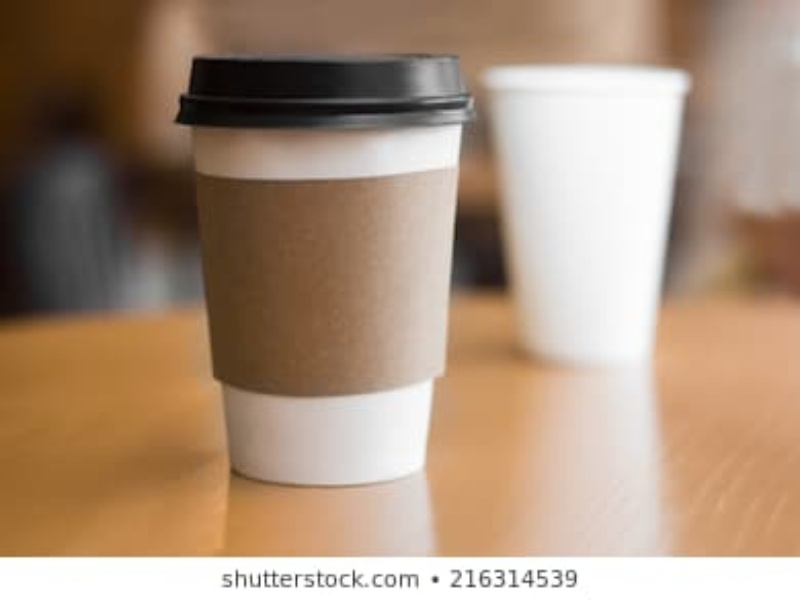coffee-lid: (173, 56, 478, 130)
plastic-cup: (171, 53, 477, 485), (481, 56, 678, 365)
